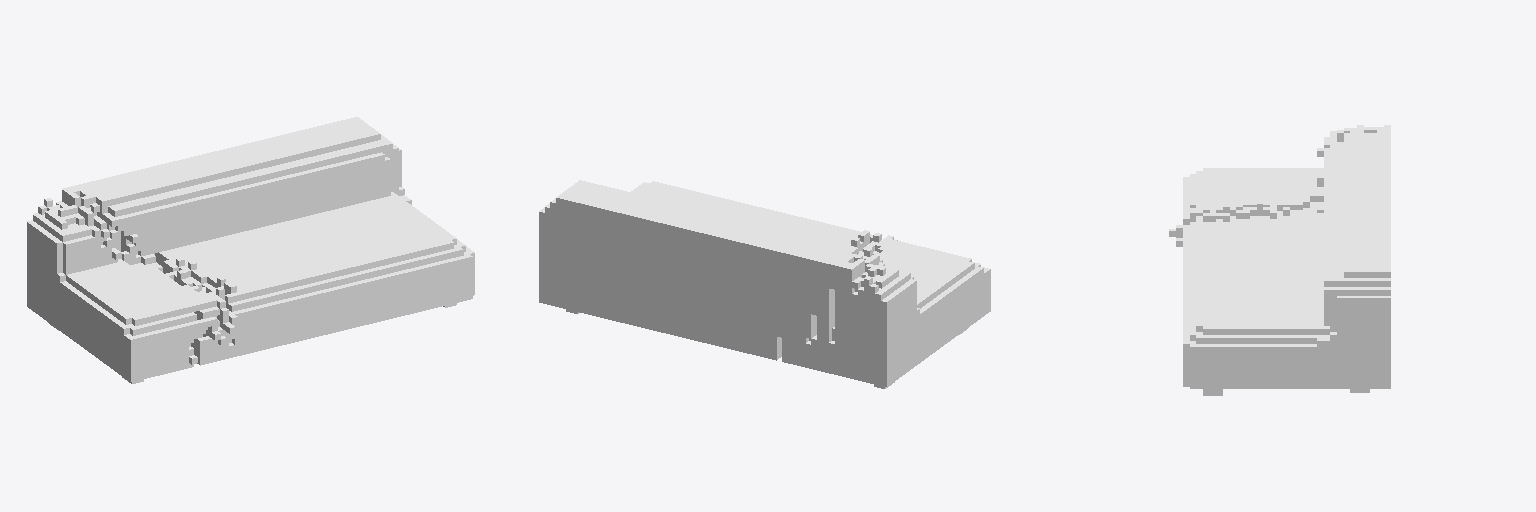
File: sofa-green-1.vox.obj
The picture shows the model from 3 angles: view 1: azimuth 30°, elevation 25°; view 2: azimuth 150°, elevation 25°; view 3: azimuth 270°, elevation 25°; orthographic projection.
Visible parts, largest first — view 1: object 1; view 2: object 1; view 3: object 1.
Boxes of the visible parts, x1,y1,x2,y2 form: object 1: [27, 117, 474, 383]; object 1: [539, 180, 990, 388]; object 1: [1169, 125, 1390, 395].
Size of the model in its own units: 6 by 2 by 3.3.